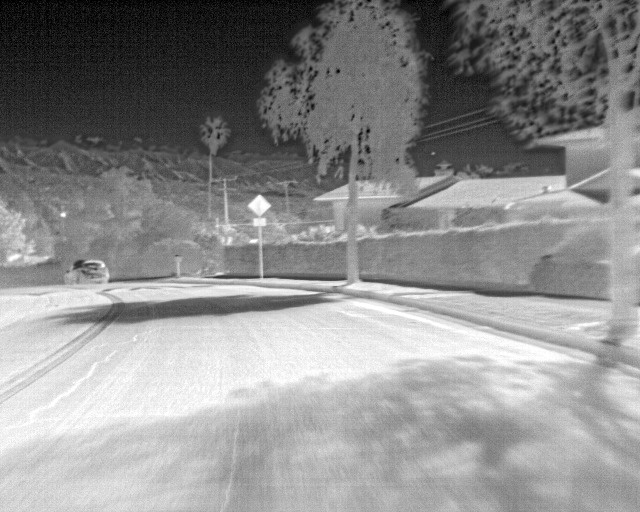vehicle: (64, 259, 110, 287)
